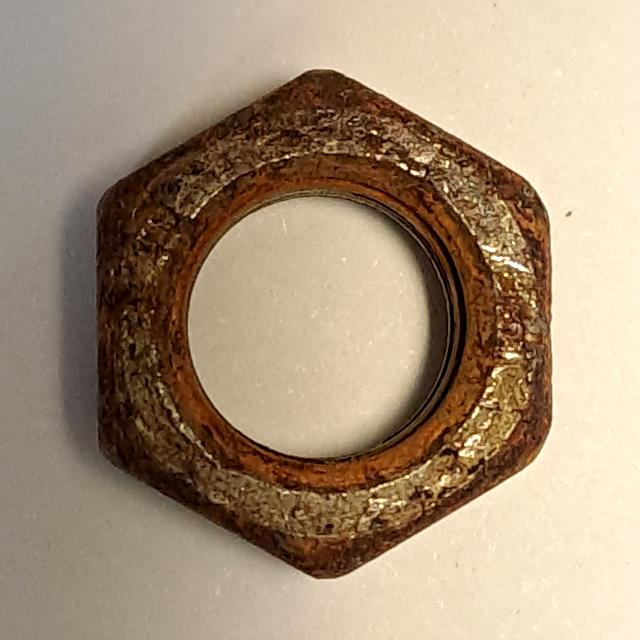Rust: (74, 45, 572, 594)
